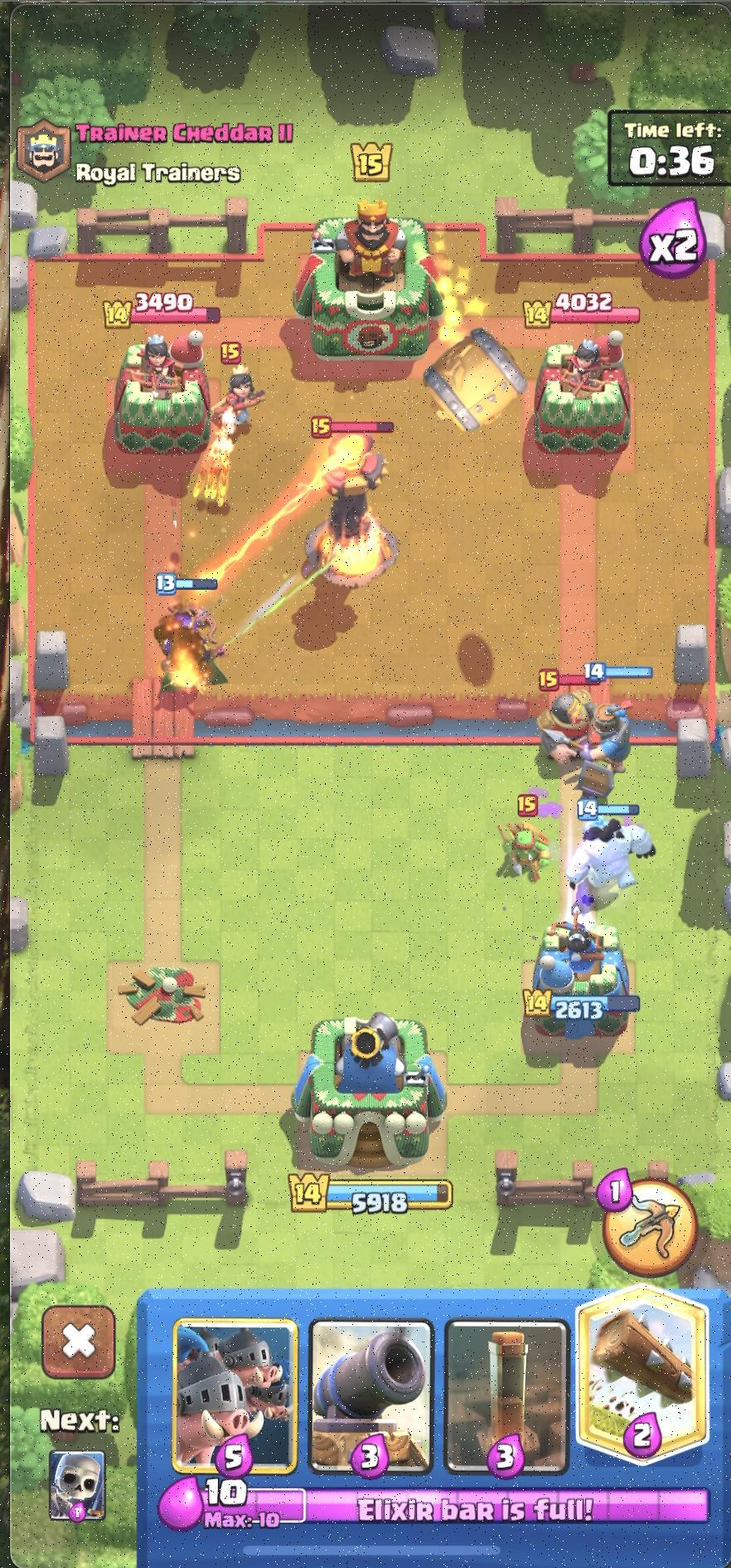card_cannon: (306, 1317, 437, 1476)
card_earthquake: (446, 1315, 571, 1478)
card_log: (571, 1280, 715, 1471)
card_royalhogs: (172, 1316, 296, 1475)
card_skeletons: (46, 1448, 110, 1525)
